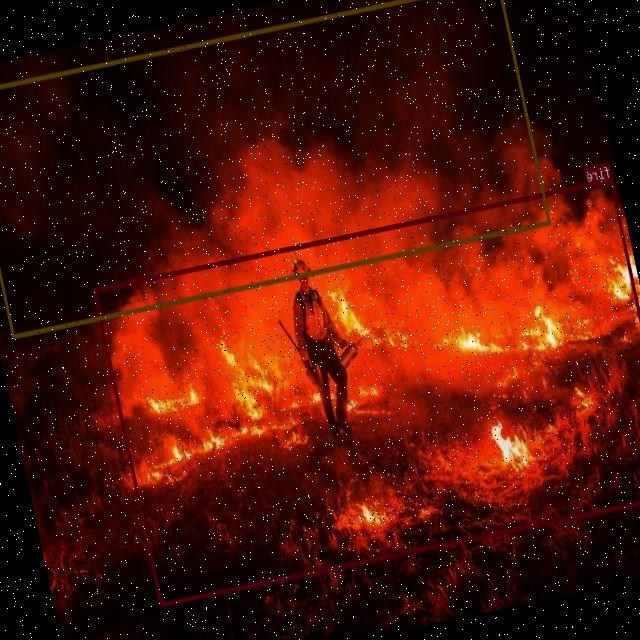fire: (93, 177, 640, 606)
smoke: (0, 0, 552, 337)
